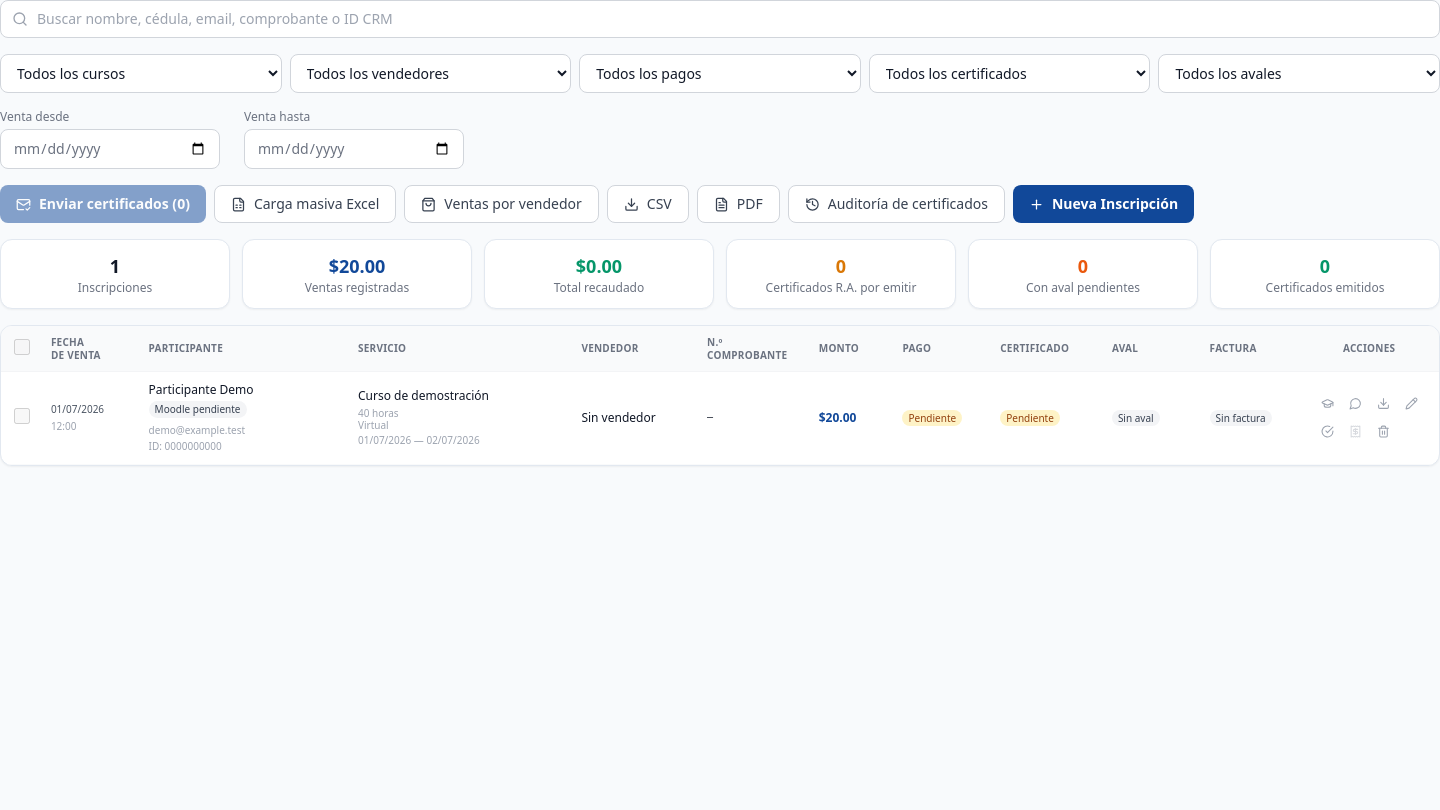
facturación desde Inscripciones — flujo de pago (sección 8/9 previas) › observación del ingreso se informa sin presentarla como un fallo fiscal
Expected: the text "Participante Demo" is shown, x1=149 y1=381 x2=254 y2=398
Click the button named "Verificar pago".
click(1327, 432)  # box x1=1315 y1=420 x2=1339 y2=444
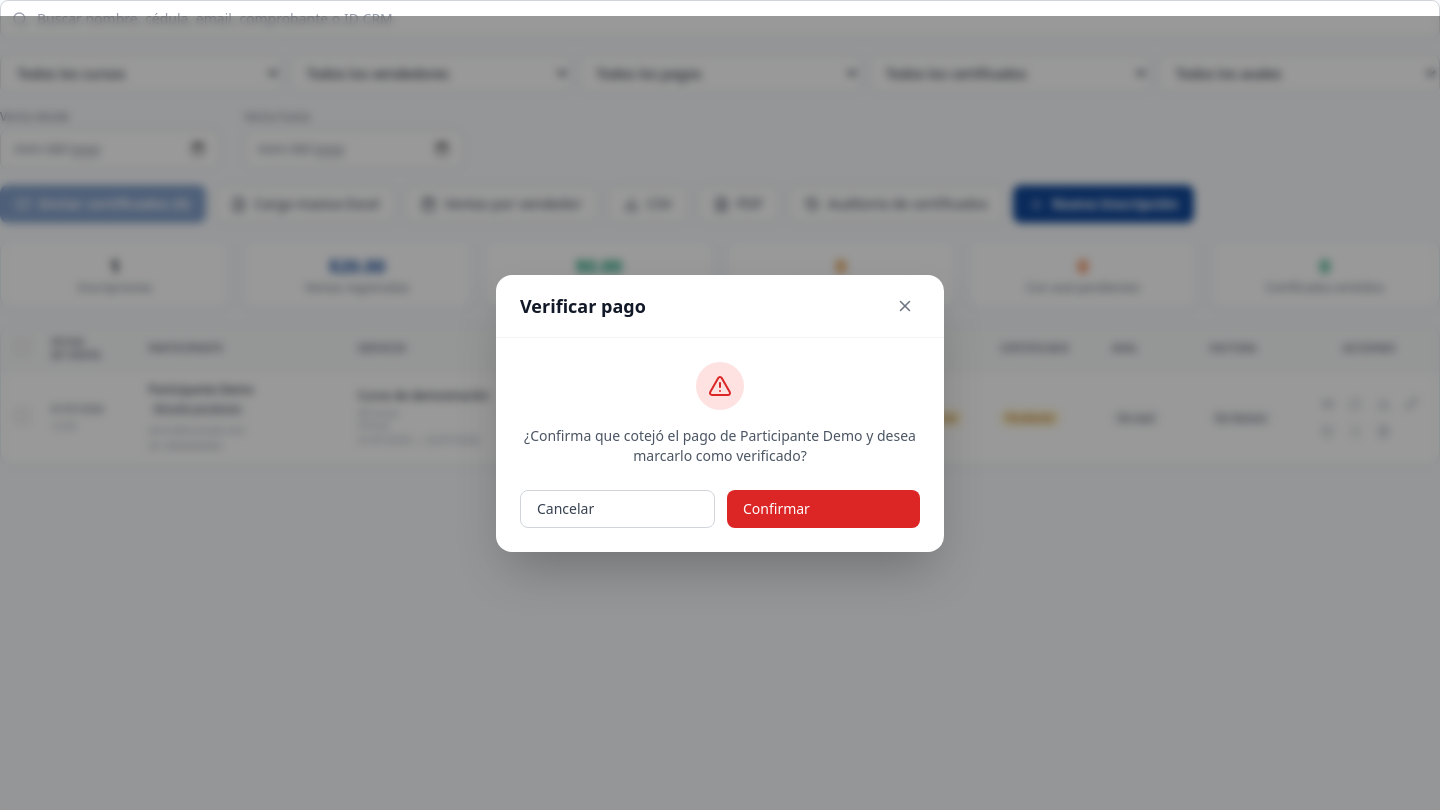
Click the button "Confirmar".
click(824, 508)  # box x1=727 y1=490 x2=920 y2=528
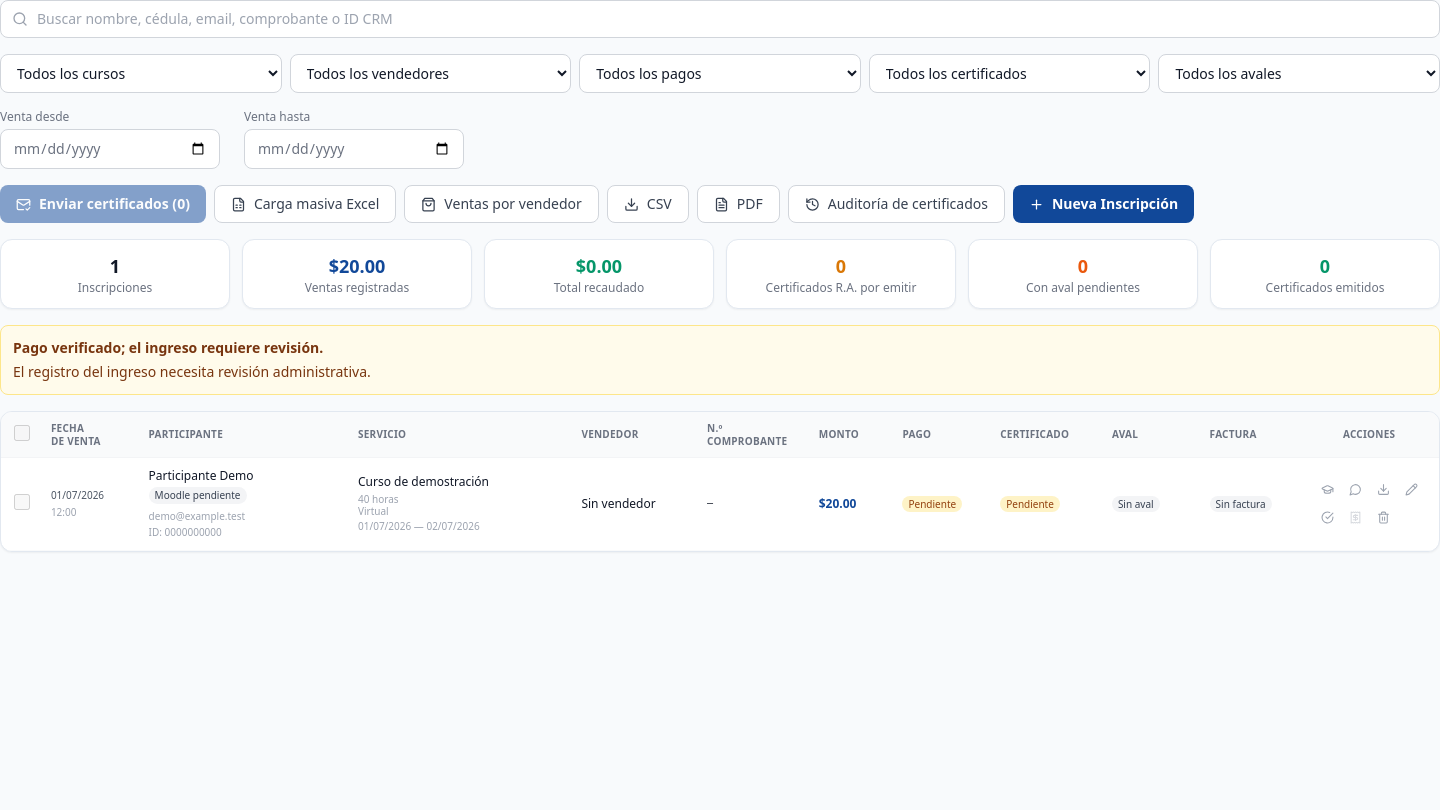
Result: the text "Pago verificado; el ingreso requiere revisión." is shown at x1=13 y1=338 x2=323 y2=357
Result: the text "El registro del ingreso necesita revisión administrativa." is shown at x1=13 y1=362 x2=371 y2=381
